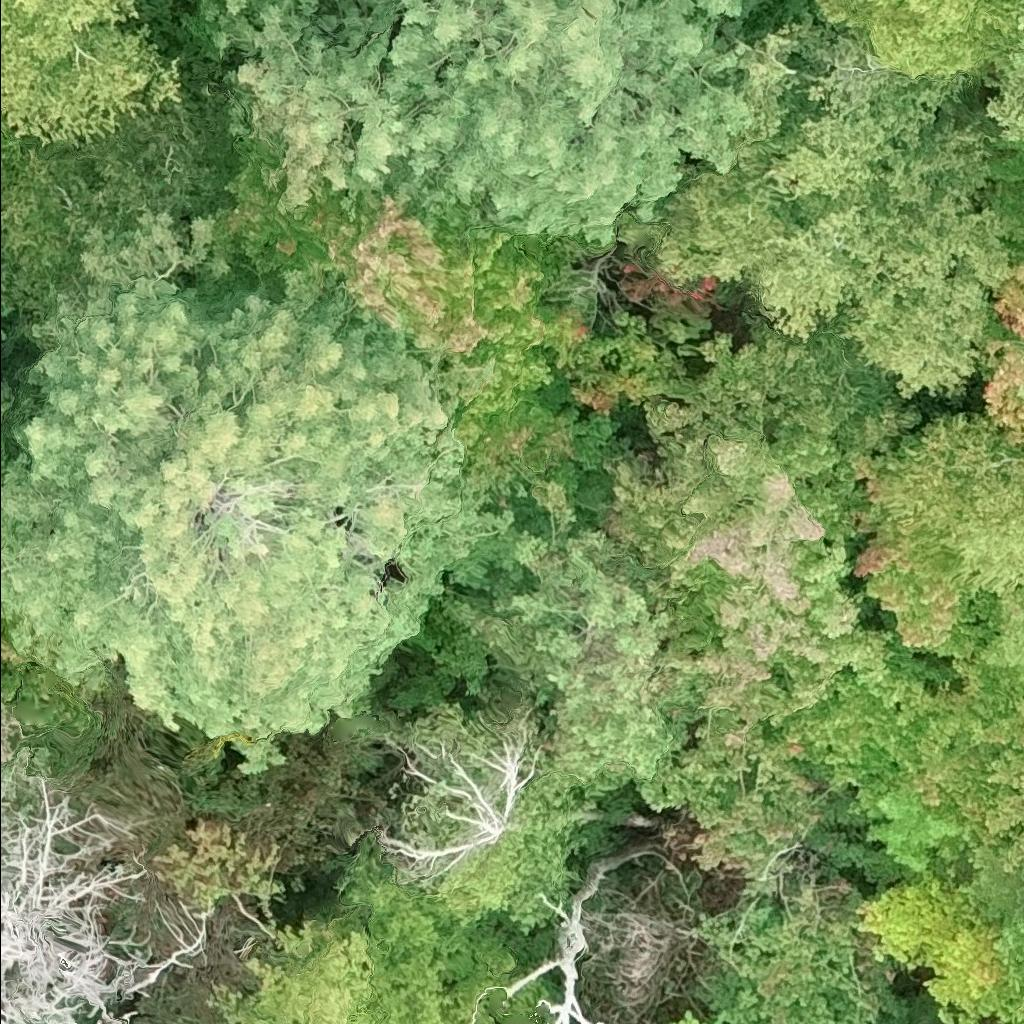crown: (0, 224, 509, 775), (610, 330, 1023, 869), (224, 129, 615, 515), (644, 99, 1012, 401), (375, 0, 753, 246), (445, 488, 704, 809), (634, 725, 902, 985), (181, 0, 410, 216), (710, 11, 961, 199), (390, 708, 588, 935), (156, 822, 375, 1023), (336, 829, 552, 1023), (505, 843, 699, 1023), (864, 408, 1023, 597), (0, 0, 182, 145), (693, 900, 904, 1023), (855, 875, 1008, 1023), (814, 0, 1023, 83), (563, 309, 720, 412), (0, 613, 102, 722), (227, 0, 397, 43), (984, 263, 1023, 445), (980, 48, 1023, 143), (994, 915, 1023, 1023), (0, 111, 13, 161), (670, 1012, 708, 1023), (0, 299, 8, 346), (0, 385, 9, 418), (998, 1011, 1018, 1023), (1015, 409, 1023, 429), (1016, 381, 1023, 391), (1020, 9, 1023, 29), (0, 463, 3, 473)
